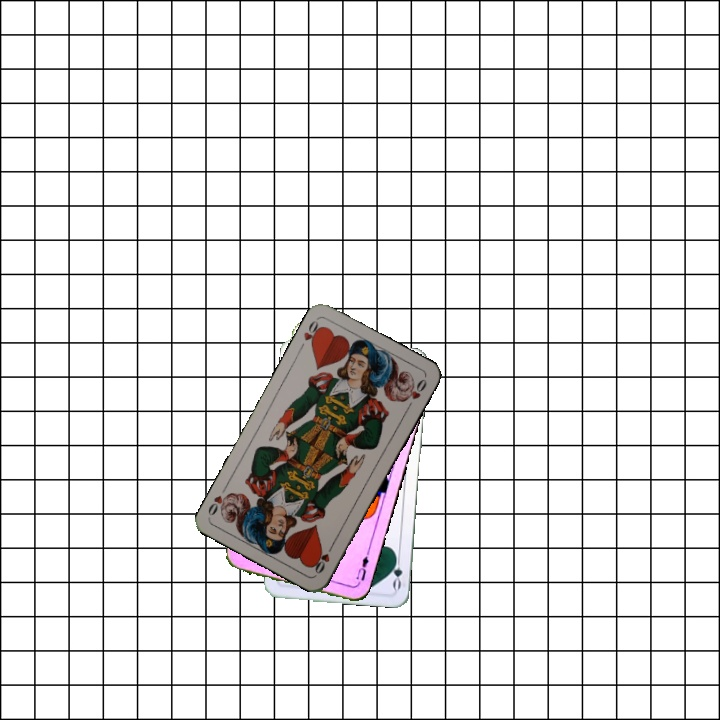EU: (352, 550, 371, 583)
GO: (389, 551, 405, 592)
HO: (295, 316, 325, 353), (310, 539, 336, 577)
